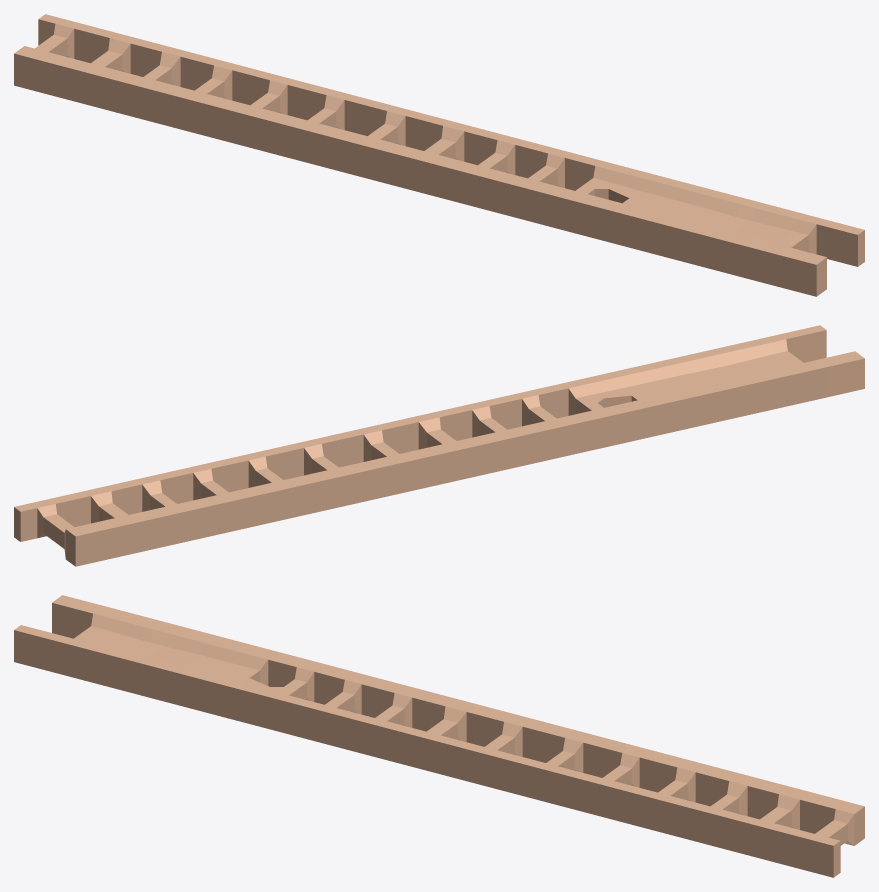
The model's file is ship-unfinishedRailing.fbx.
3 views of the same model, one above another, from view 1: azimuth 90°, elevation 25°; view 2: azimuth 150°, elevation 25°; view 3: azimuth 270°, elevation 25° (orthographic). The views are drawn at different scales.
Visible parts, largest first — view 1: Cube.004; view 2: Cube.004; view 3: Cube.004.
Boxes of the visible parts, <box> form: Cube.004: <box>14,14,864,296</box>; Cube.004: <box>14,325,864,566</box>; Cube.004: <box>14,595,864,877</box>.
Bounding box in the file's own units: 68.79 × 4.1 × 98.67.
